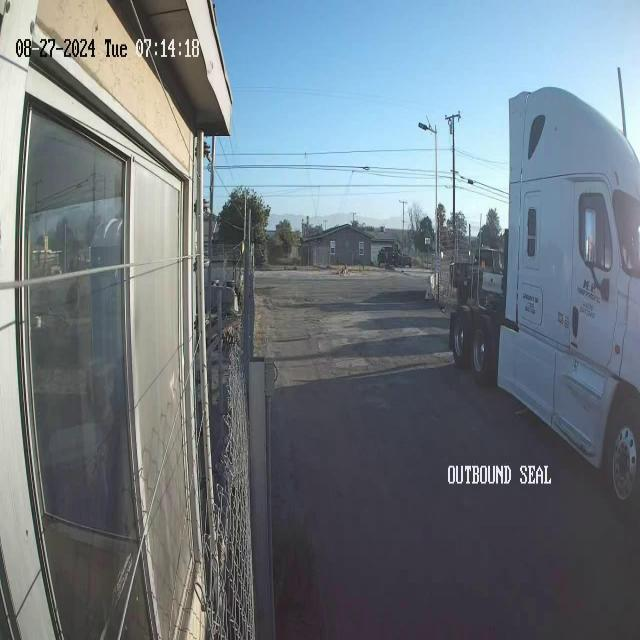BOBTAIL: (447, 80, 639, 507)
